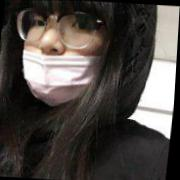WRONG: (16, 1, 123, 110)
